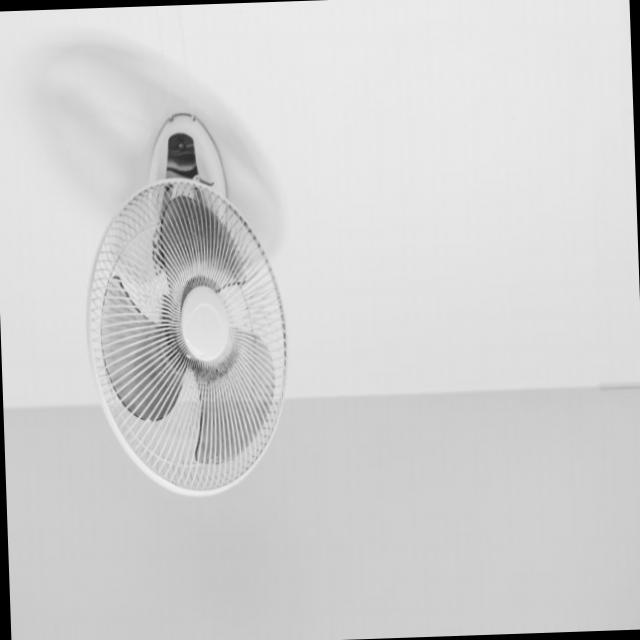fan: (75, 110, 298, 502)
